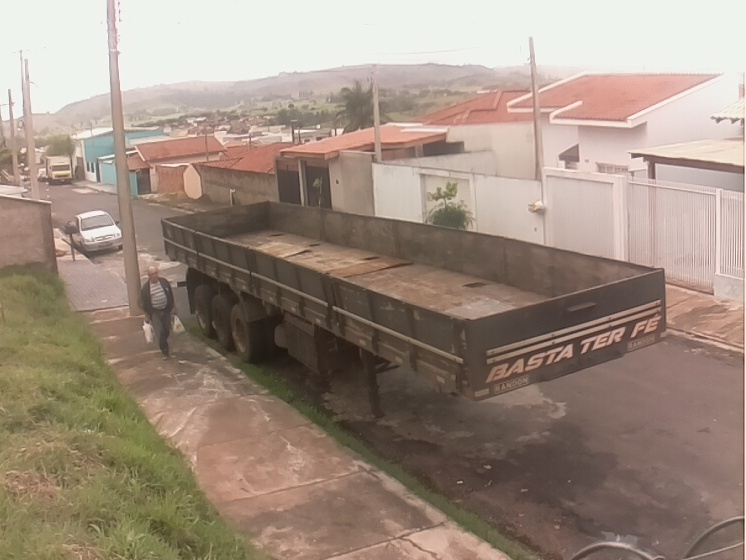person: (140, 267, 178, 360)
